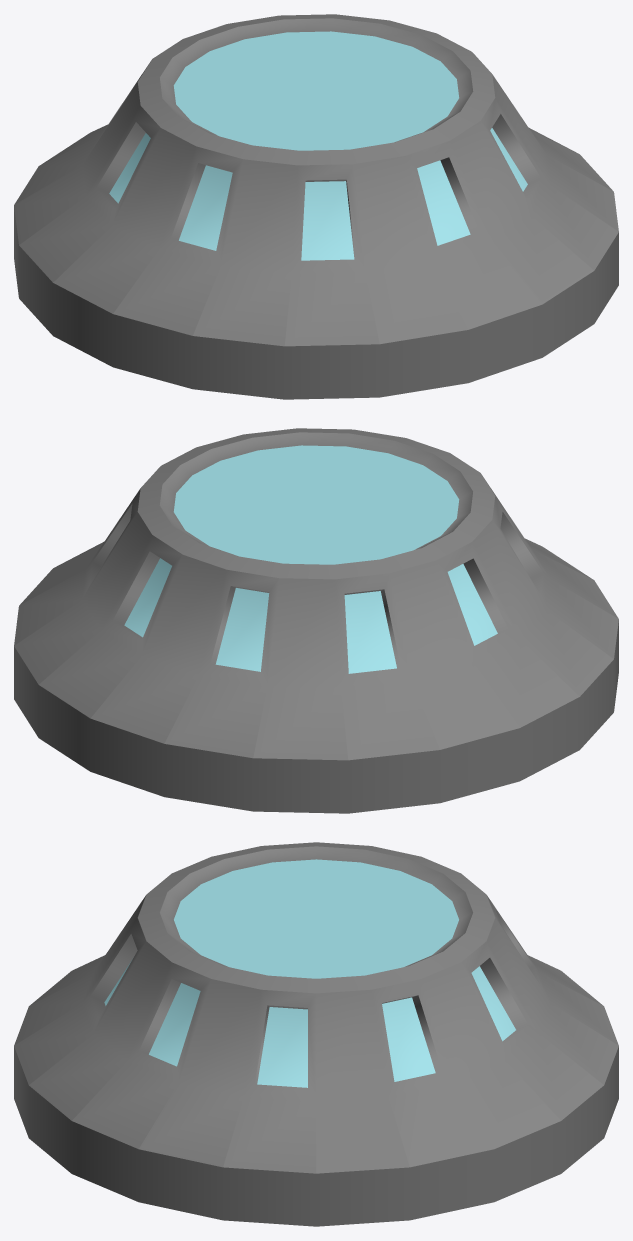
File: Extra2.fbx
3 renders of one model, top to bottom at view 1: azimuth 30°, elevation 25°; view 2: azimuth 150°, elevation 25°; view 3: azimuth 270°, elevation 25°, orthographic.
Visible parts, largest first — view 1: Extrea_asset_2; view 2: Extrea_asset_2; view 3: Extrea_asset_2.
Boxes of the visible parts, x1,y1,x2,y2 form: Extrea_asset_2: (14,14,618,399); Extrea_asset_2: (14,428,618,813); Extrea_asset_2: (14,842,618,1226).
Bounding box in the file's own units: 12.47 × 4.24 × 12.47.
